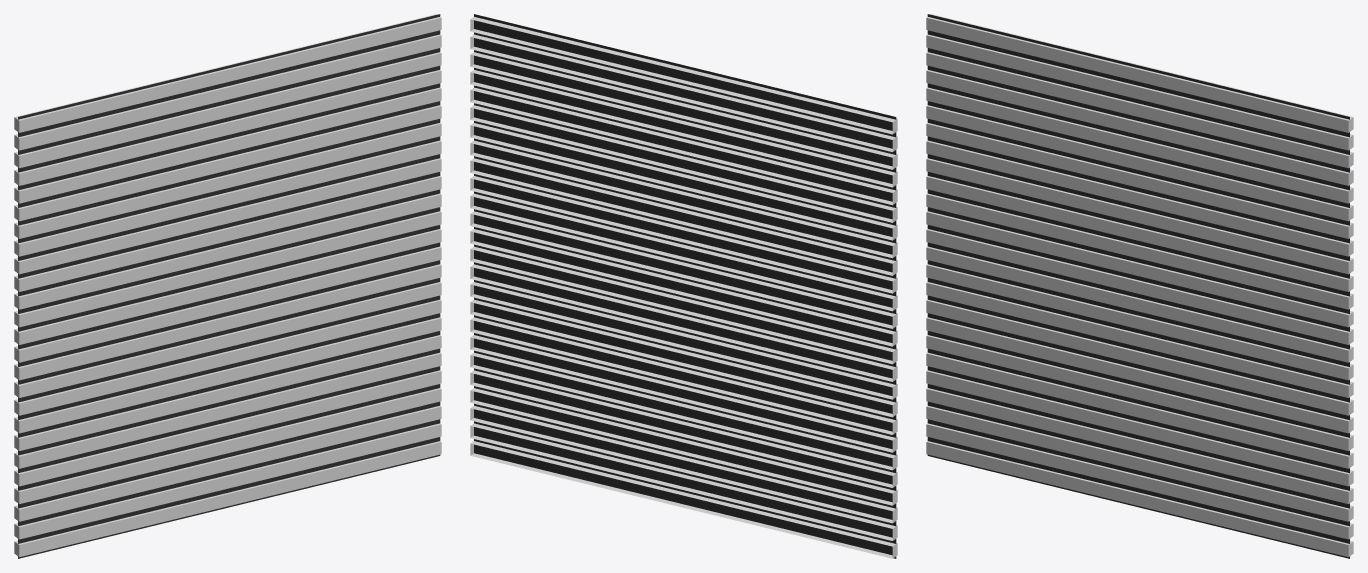
The model's file is door.obj.
The picture shows the model from 3 angles, left to right: view 1: azimuth 30°, elevation 25°; view 2: azimuth 150°, elevation 25°; view 3: azimuth 330°, elevation 25°; orthographic projection.
Visible parts, largest first — view 1: Cube.013, Cube; view 2: Cube, Cube.013; view 3: Cube.013, Cube.
Part boxes in pixels (x1,y1,x2,y2): Cube.013: [14, 14, 441, 556]; Cube: [18, 14, 440, 558]; Cube: [474, 14, 896, 558]; Cube.013: [470, 17, 897, 558]; Cube.013: [926, 14, 1353, 556]; Cube: [927, 14, 1349, 558].
Bounding box in the file's own units: 1 × 1 × 0.0203.
2 materials, 2 textured.
